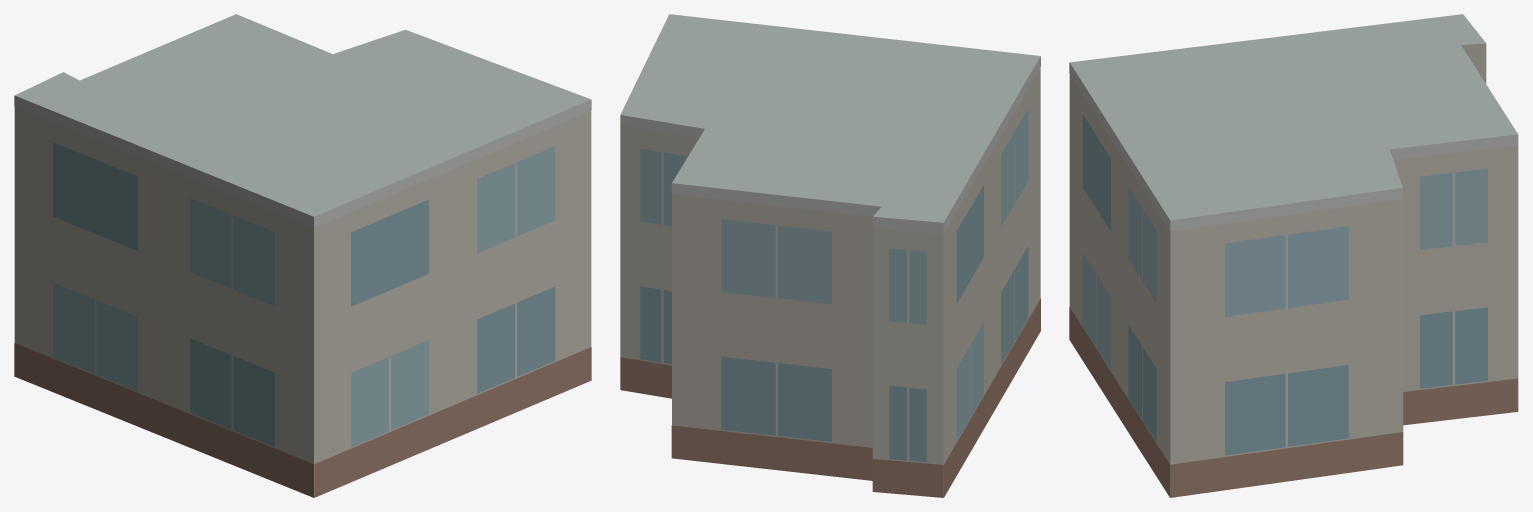
Rendered from survey-upis-32991347.glb.
3 views of the same model, side by side, from view 1: azimuth 30°, elevation 25°; view 2: azimuth 150°, elevation 25°; view 3: azimuth 270°, elevation 25° (orthographic). The views are drawn at different scales.
Parts seen in each view (by area): view 1: survey-upis-32991347.tmp; view 2: survey-upis-32991347.tmp; view 3: survey-upis-32991347.tmp.
Part boxes in pixels (x1,y1,x2,y2): survey-upis-32991347.tmp: [14, 14, 591, 497]; survey-upis-32991347.tmp: [620, 14, 1040, 497]; survey-upis-32991347.tmp: [1069, 14, 1518, 497].
Size of the model in its own units: 9.75 by 6.1 by 8.95.
